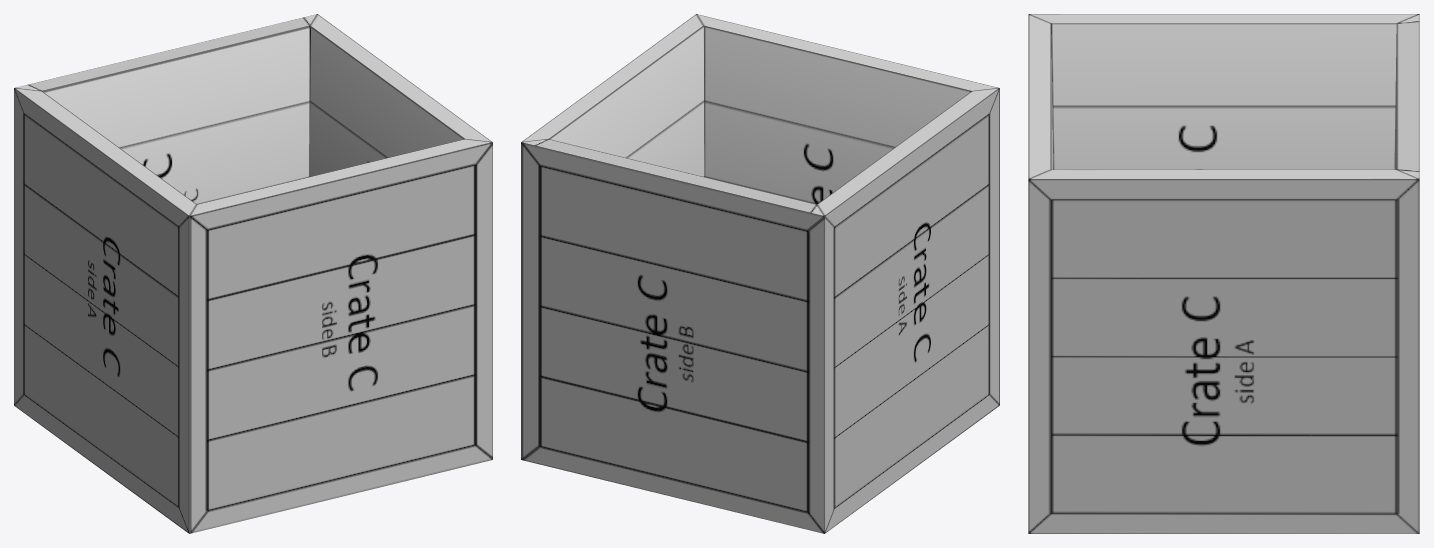
Rendered from Crate_open01.fbx.
3 renders of one model, left to right at view 1: azimuth 30°, elevation 25°; view 2: azimuth 150°, elevation 25°; view 3: azimuth 270°, elevation 25°, orthographic. The views are drawn at different scales.
Parts seen in each view (by area): view 1: Crate_open01; view 2: Crate_open01; view 3: Crate_open01.
Part boxes in pixels (left/top/right/bottom): Crate_open01: left=14, top=14, right=492, bottom=533; Crate_open01: left=521, top=14, right=999, bottom=533; Crate_open01: left=1028, top=14, right=1419, bottom=533.
Bounding box in the file's own units: 111 × 111 × 111.
Materials: 1 (1 with a texture image).
